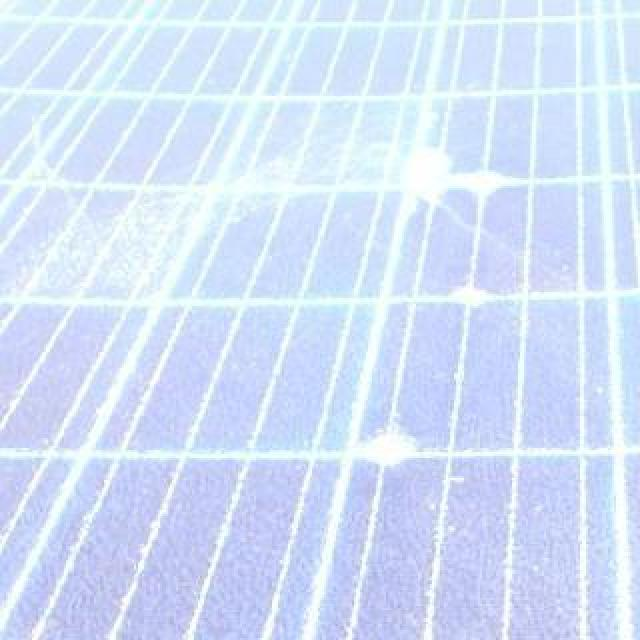cracked: (2, 2, 638, 640)
